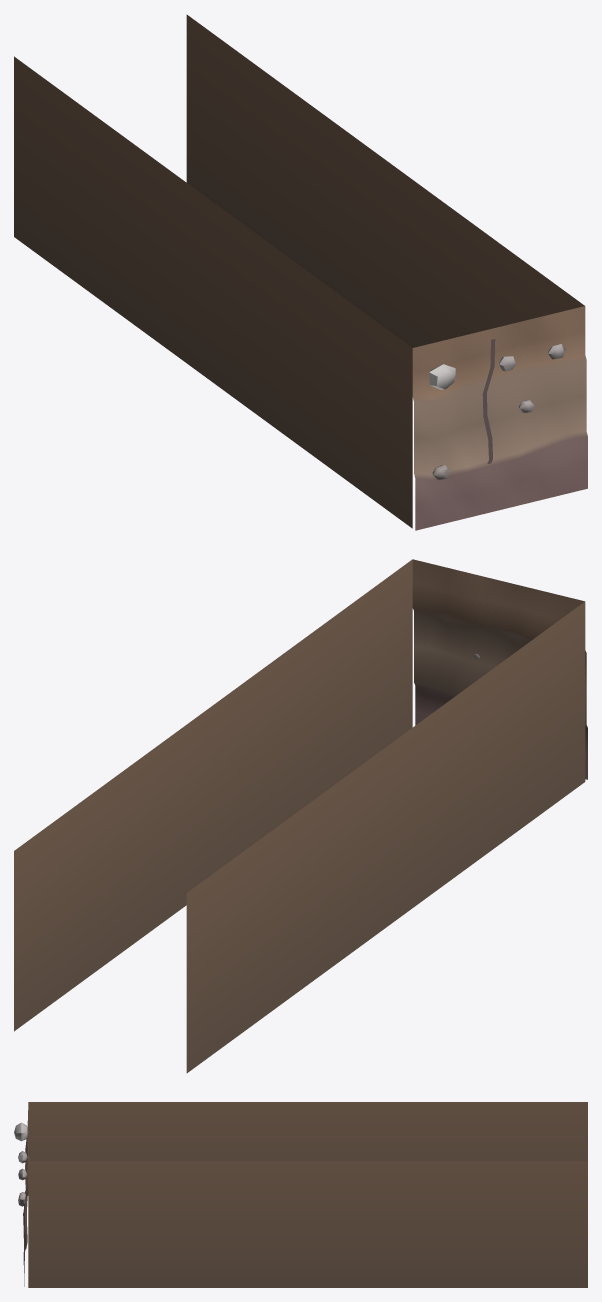
File: ground_deep_0.glb
The picture shows the model from 3 angles, top to bottom: view 1: azimuth 30°, elevation 25°; view 2: azimuth 150°, elevation 25°; view 3: azimuth 270°, elevation 25°; orthographic projection. The views are drawn at different scales.
Visible parts, largest first — view 1: ground_deep_0; view 2: ground_deep_0; view 3: ground_deep_0.
Part boxes in pixels (x1,y1,x2,y2): ground_deep_0: [14, 14, 587, 530]; ground_deep_0: [14, 559, 587, 1073]; ground_deep_0: [14, 1102, 587, 1287].
Size of the model in its own units: 1 by 1 by 4.1.
